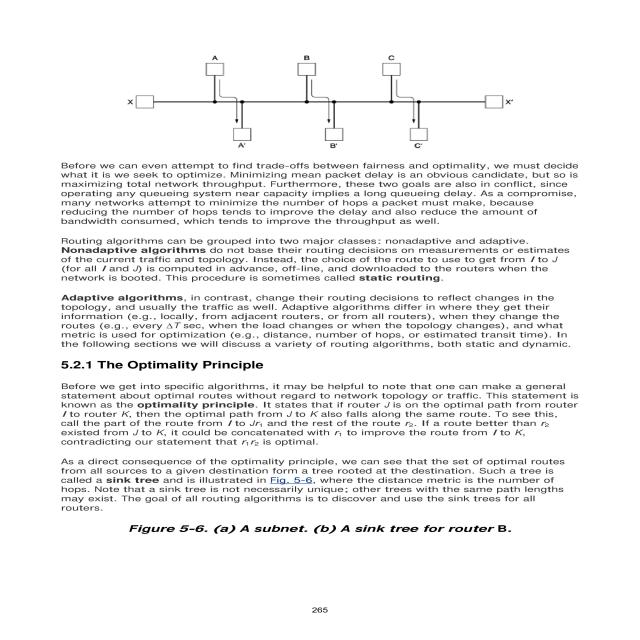diagram: (90, 44, 514, 151)
